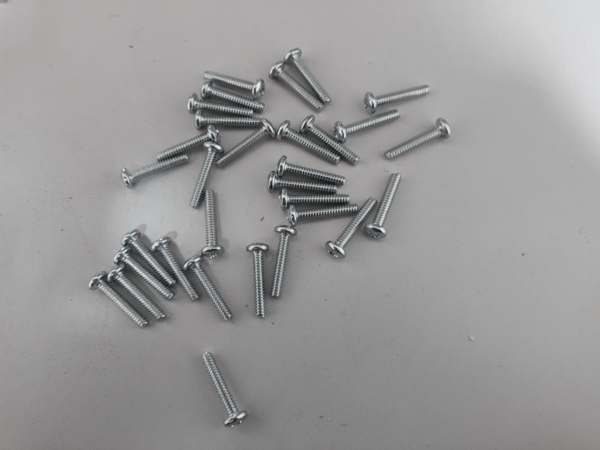longscrew: (197, 348, 245, 428), (186, 253, 234, 325), (324, 195, 376, 261), (148, 236, 201, 298), (124, 229, 177, 291), (117, 244, 173, 302), (110, 264, 166, 322), (90, 271, 146, 329), (296, 115, 358, 167), (117, 150, 192, 190), (384, 119, 457, 160), (211, 123, 276, 169), (273, 121, 340, 165), (366, 174, 406, 242), (281, 48, 331, 99), (269, 57, 319, 108), (332, 104, 399, 142), (363, 80, 431, 115), (273, 224, 301, 306), (244, 240, 271, 323), (156, 124, 217, 159), (275, 156, 347, 185), (190, 145, 223, 208), (282, 201, 360, 227), (275, 191, 353, 217), (263, 172, 340, 198), (200, 81, 263, 111), (187, 87, 249, 117), (200, 70, 263, 97), (198, 188, 220, 262), (187, 114, 265, 129)
